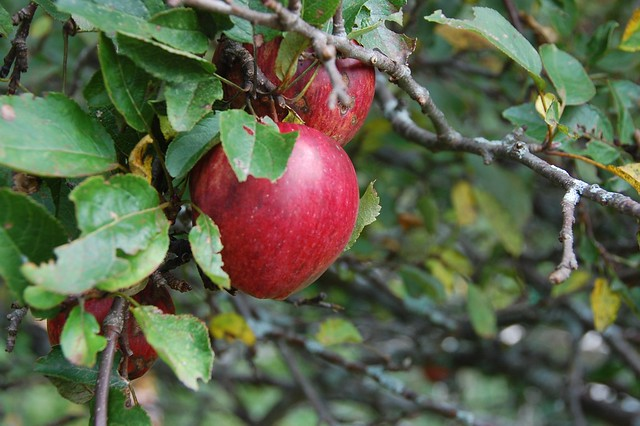apple: (184, 118, 359, 302)
